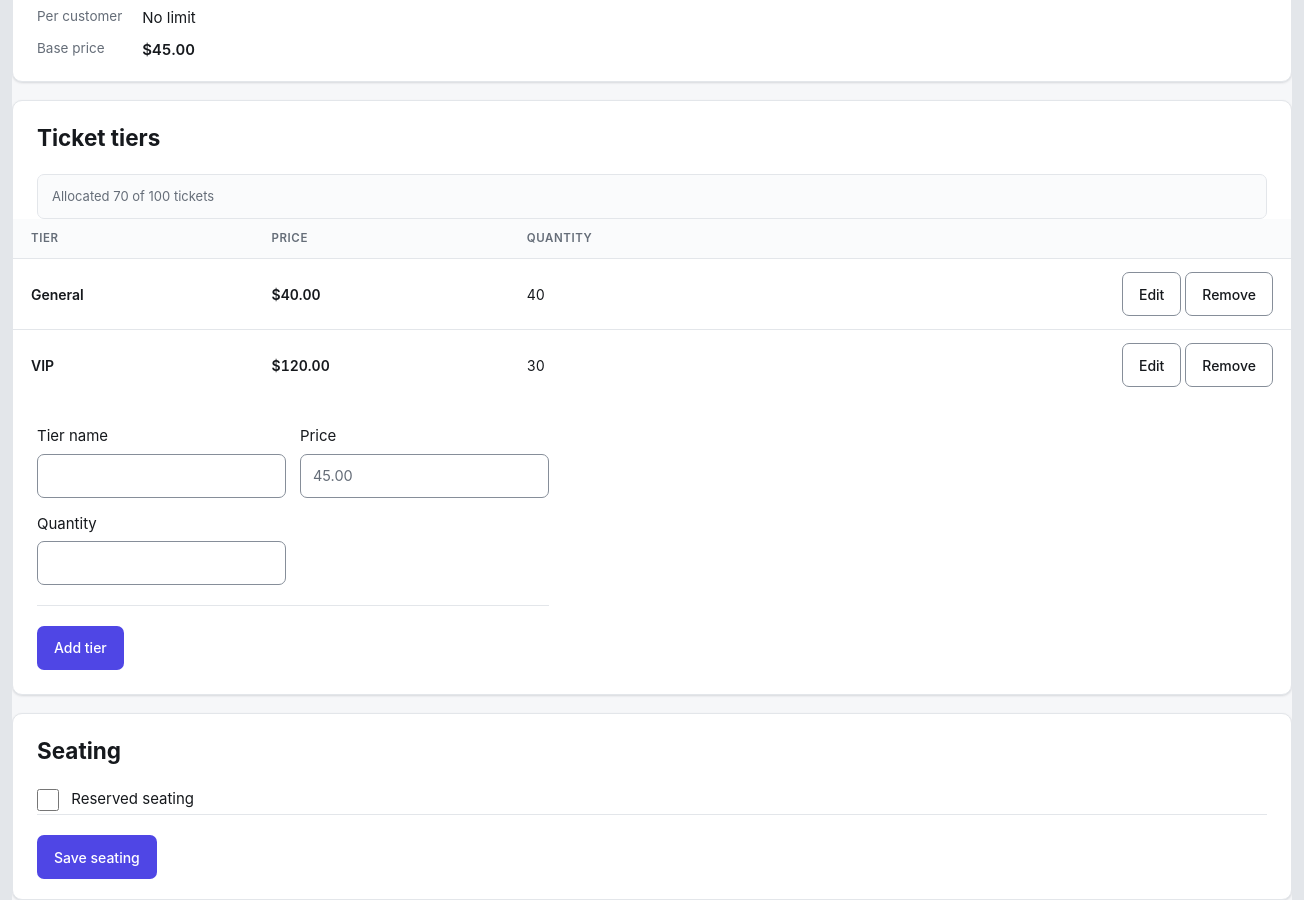
Scenario: Seating card › turns reserved seating on and maps each section to a tier, or to nothing
(page scrolled)
Click the checkbox labelled "Reserved seating": (48, 800) x1=37 y1=789 x2=59 y2=811
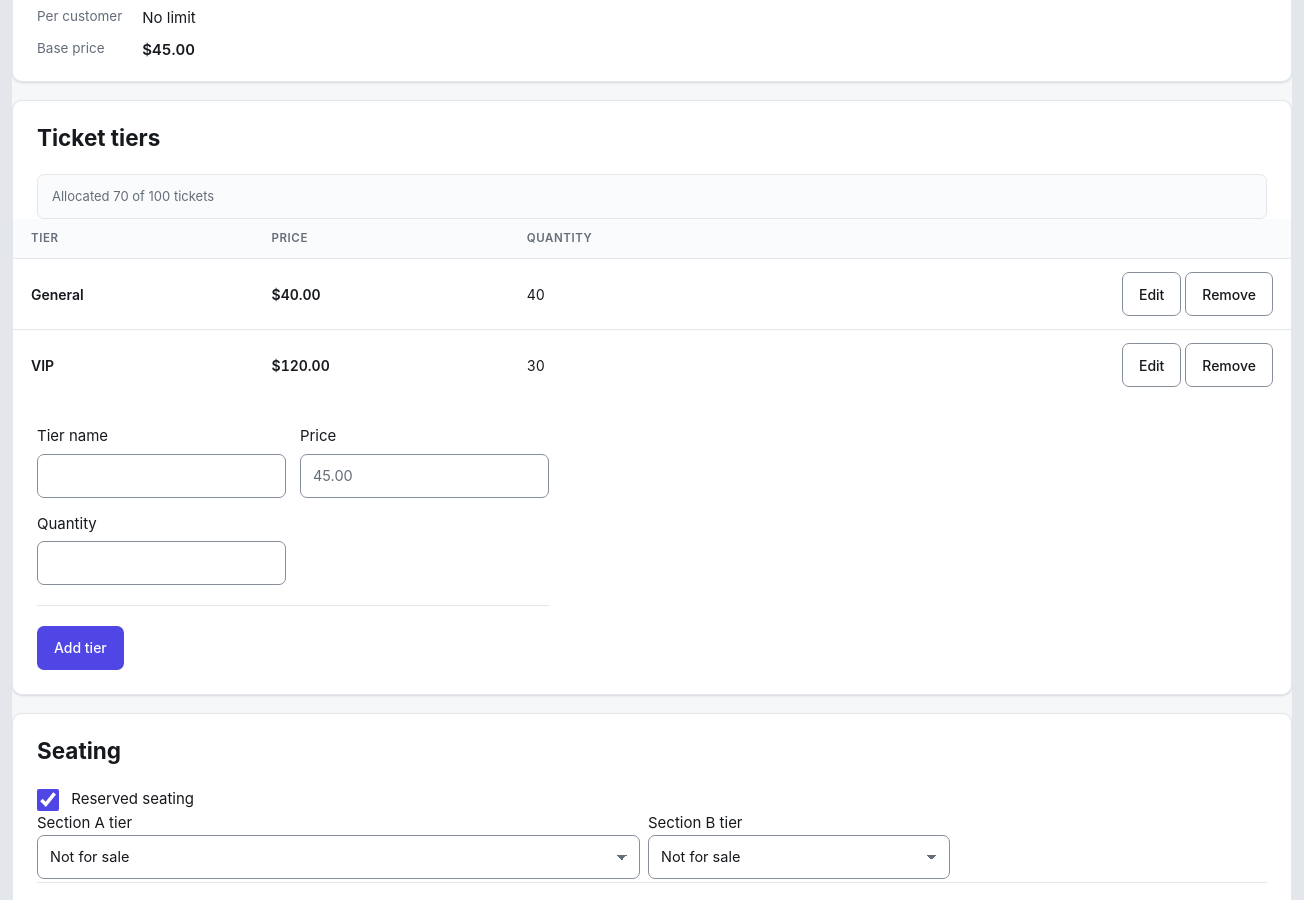
Select "VIP" in the dropdown labelled "Section A tier": (338, 856) x1=37 y1=834 x2=640 y2=878
(page scrolled)
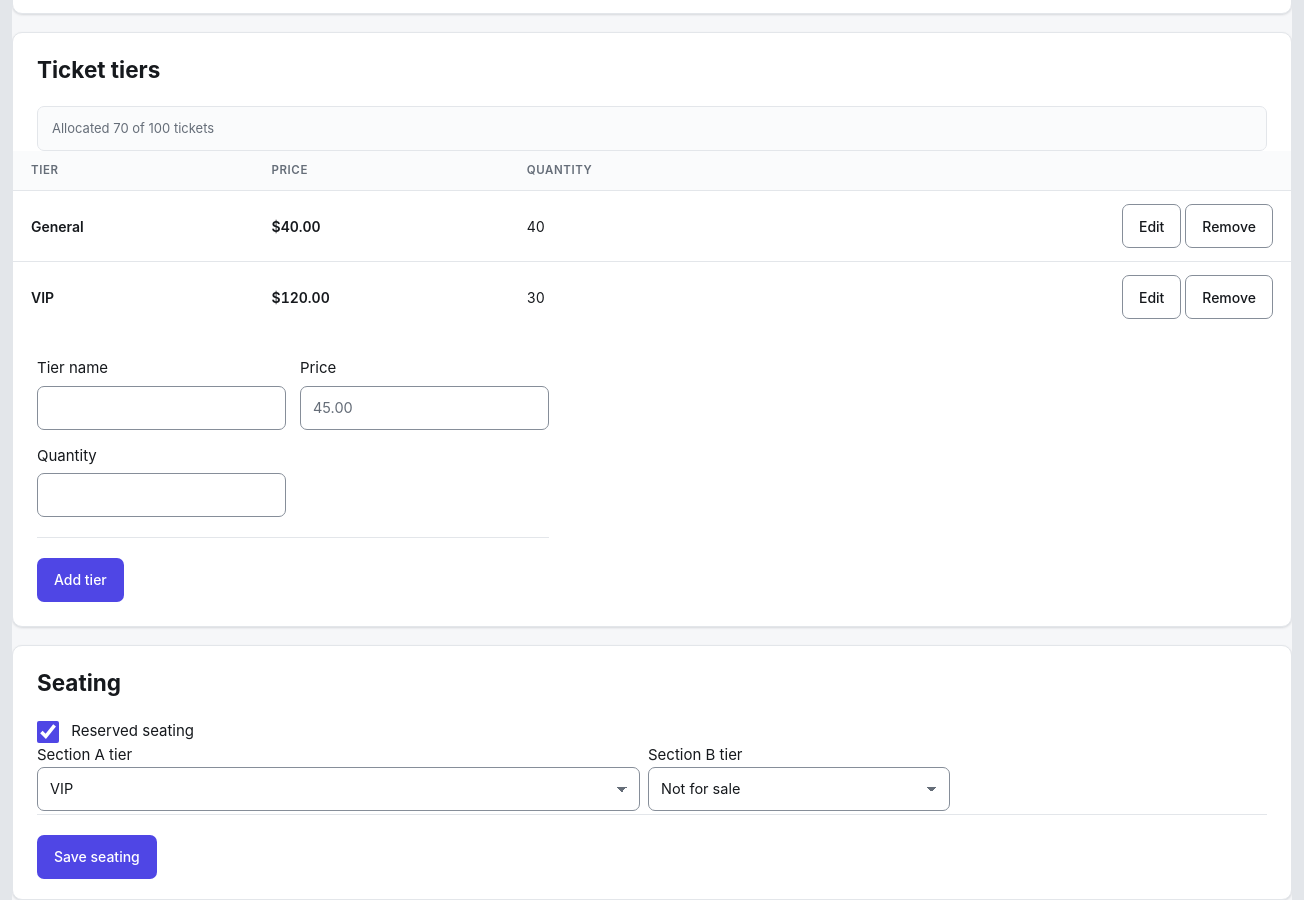
Click the button "Save seating": (97, 856) x1=37 y1=834 x2=157 y2=878
(page scrolled)
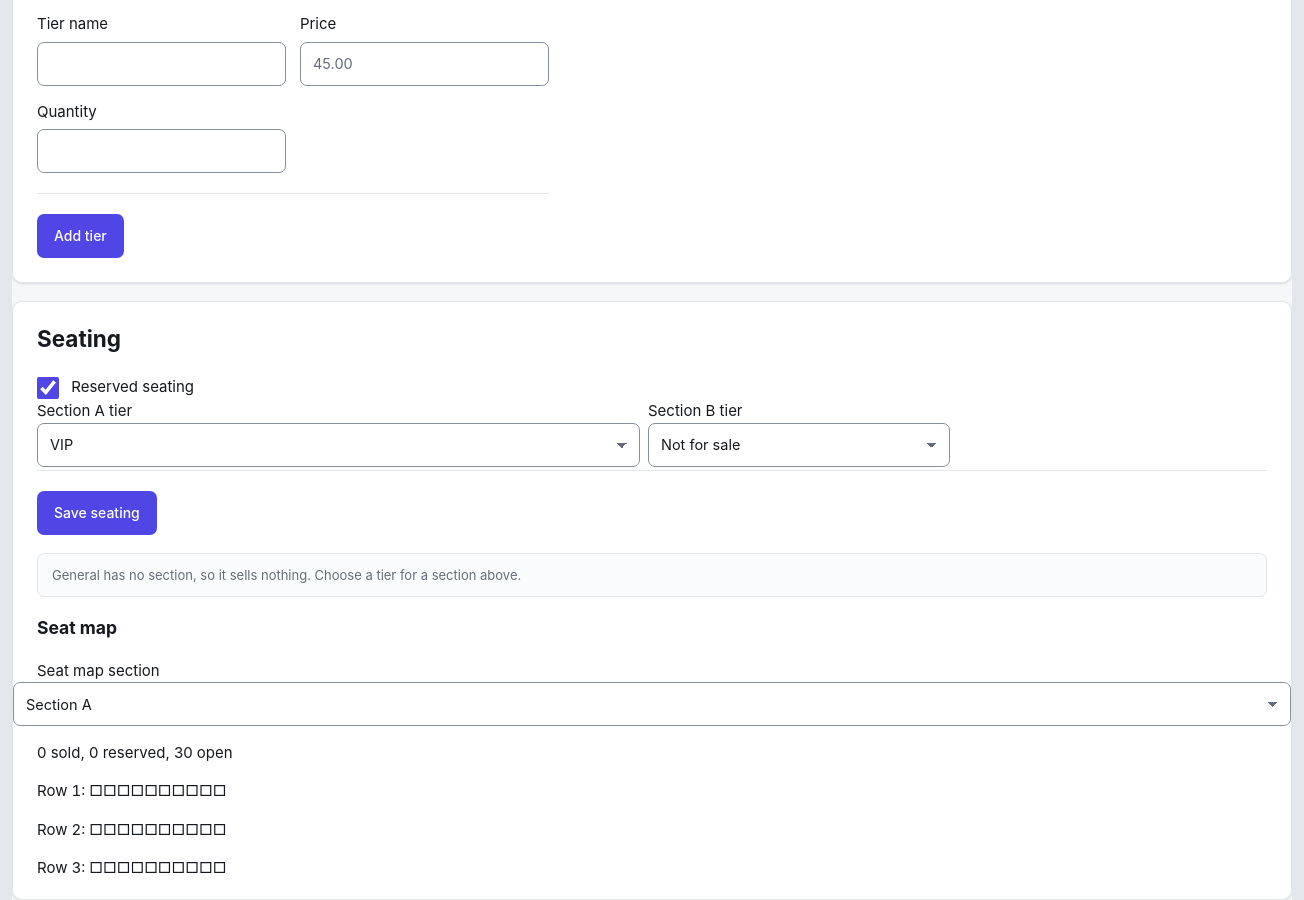
Result: the text "0 sold, 0 reserved, 30 open" is shown at x1=37 y1=743 x2=233 y2=762
